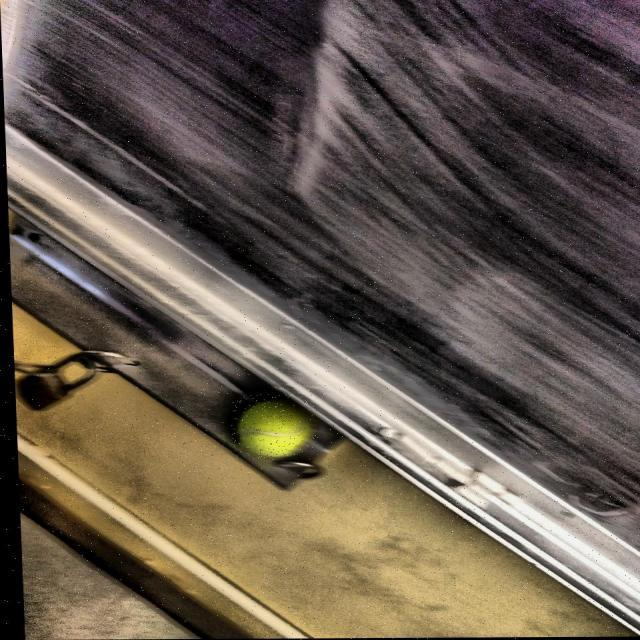tennis-ball: (226, 394, 312, 461)
